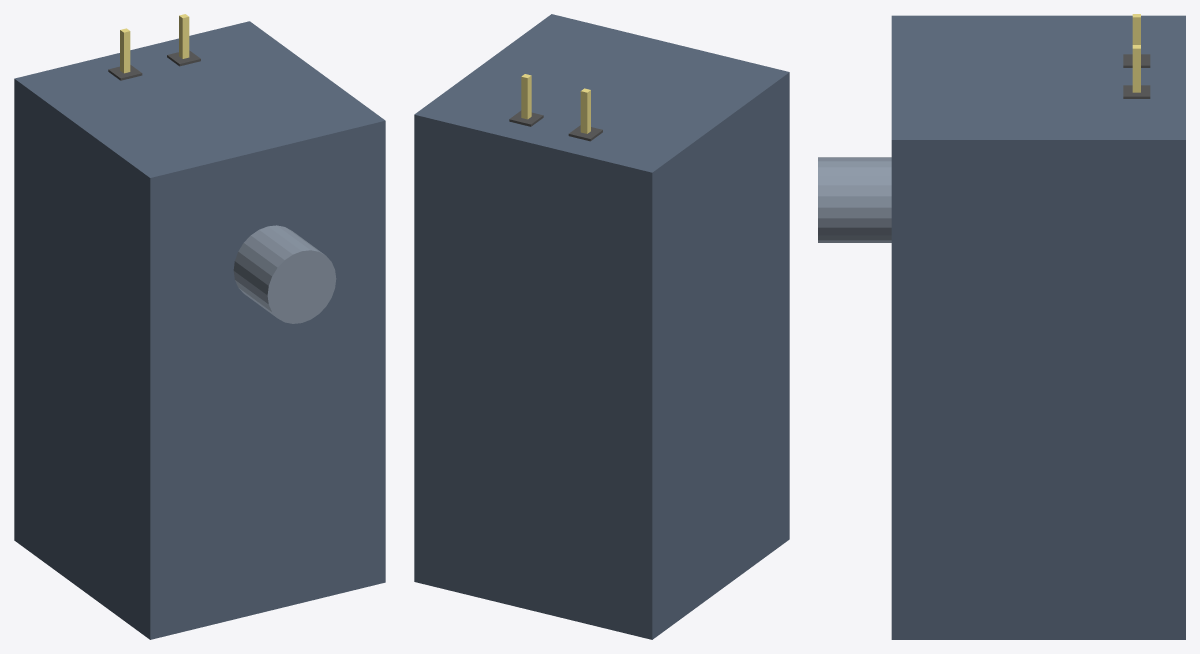
Rendered from water-pump-5v-submersible.glb.
3 renders of one model, left to right at view 1: azimuth 30°, elevation 25°; view 2: azimuth 150°, elevation 25°; view 3: azimuth 270°, elevation 25°, orthographic. The views are drawn at different scales.
Visible parts, largest first — view 1: water-pump-5v-submersible_mesh; view 2: water-pump-5v-submersible_mesh; view 3: water-pump-5v-submersible_mesh.
Part boxes in pixels (x1=…): water-pump-5v-submersible_mesh: x1=14, y1=14, x2=385, y2=639; water-pump-5v-submersible_mesh: x1=414, y1=14, x2=789, y2=639; water-pump-5v-submersible_mesh: x1=818, y1=14, x2=1185, y2=639.
Bounding box in the file's own units: 24 × 49.2 × 30.
